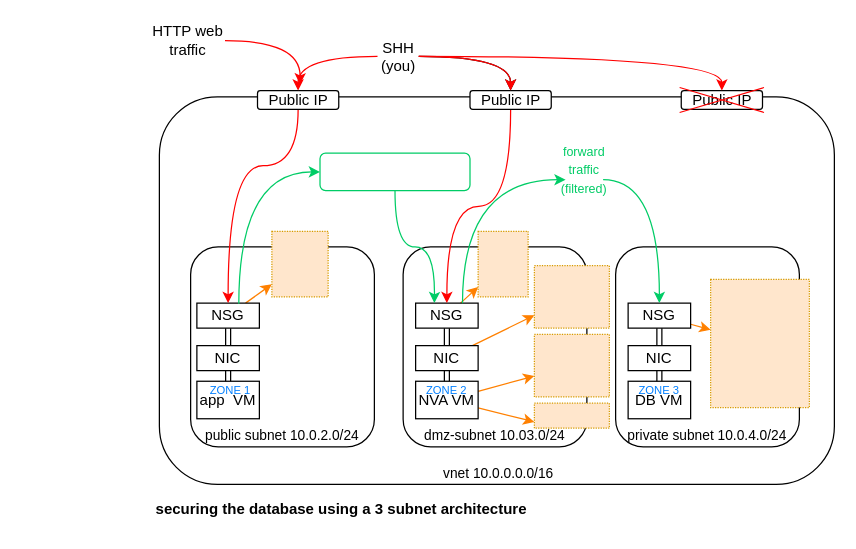
This 856x549 diagram has some shape labels left out. The centre of each missing label's shape, as x and y in pixels:
IP forwarding enabled (azure): the point at 571,296
IP forwarding enabled (linux): the point at 571,365
IP table rules: the point at 571,415
rules allow: 22 SSH: the point at 502,263
rules allow: 22 SSH 27017 mongo DB deny: anything else: the point at 759,343
rules allow: 80 HTTP 22 SSH: the point at 299,263
to-private-subnet route table: the point at 394,171
